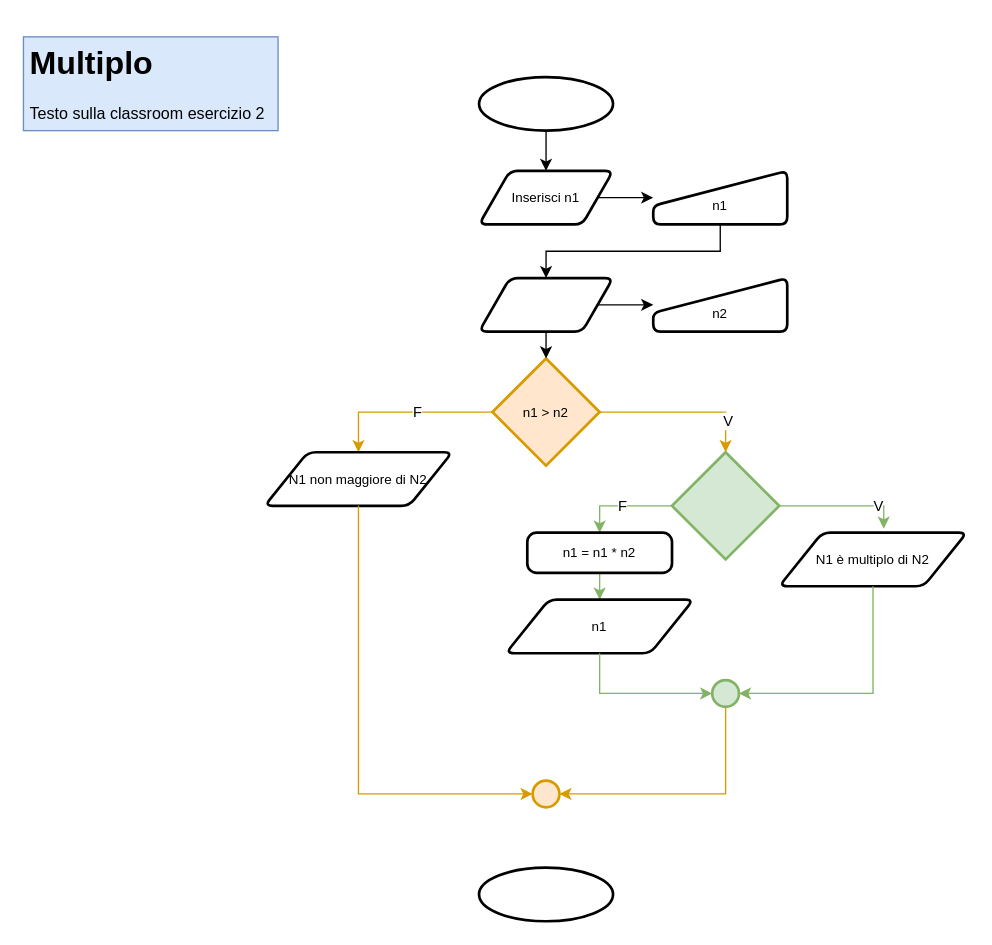
Some shapes in this 992 by 945 pixel diagram are drawn without their labels. The box of each missing label's shape, as (x1, y1, x2, y2) in pixels:
fine: (477, 866, 614, 922)
inizio: (477, 75, 614, 131)
Inserisci n2: (477, 276, 614, 332)
n1%n2 = 0: (670, 450, 780, 560)
